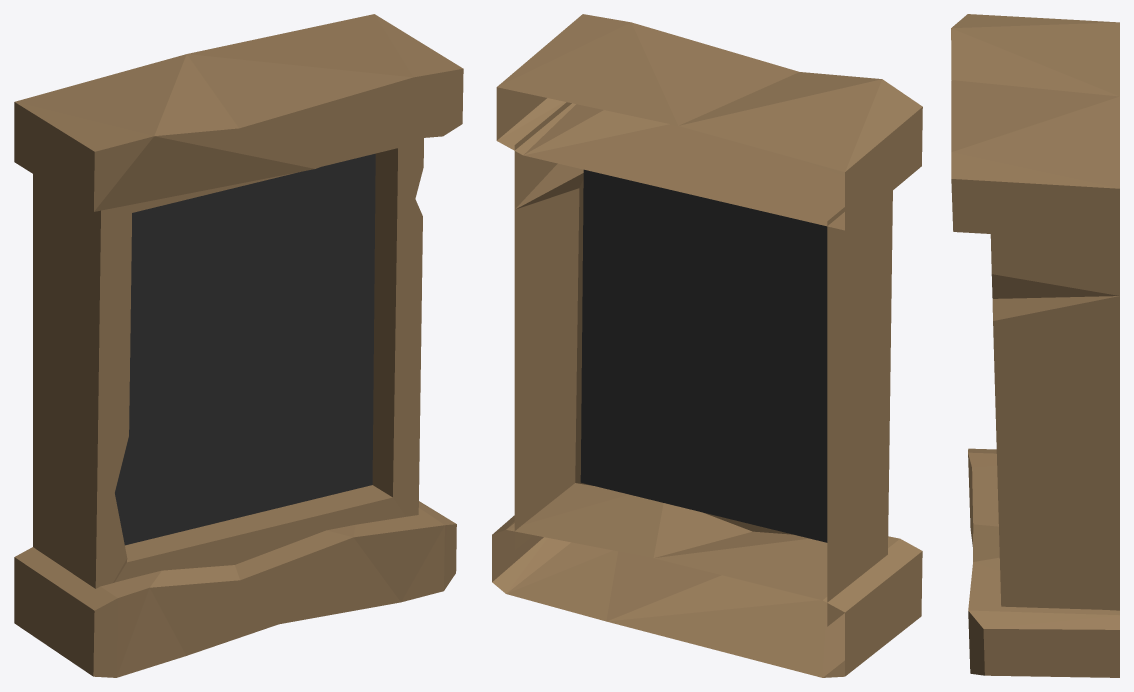
File: SM_Bld_House_Window_05.gltf
The picture shows the model from 3 angles, left to right: view 1: azimuth 30°, elevation 25°; view 2: azimuth 150°, elevation 25°; view 3: azimuth 270°, elevation 25°; orthographic projection. The views are drawn at different scales.
Visible parts, largest first — view 1: SM_Bld_House_Window_05; view 2: SM_Bld_House_Window_05; view 3: SM_Bld_House_Window_05.
Part boxes in pixels (left/top/right/bottom): SM_Bld_House_Window_05: left=14, top=14, right=463, bottom=677; SM_Bld_House_Window_05: left=492, top=14, right=922, bottom=677; SM_Bld_House_Window_05: left=951, top=14, right=1119, bottom=677.
Bounding box in the file's own units: 0.6489 × 0.9157 × 0.2706.
1 material, 1 textured.
